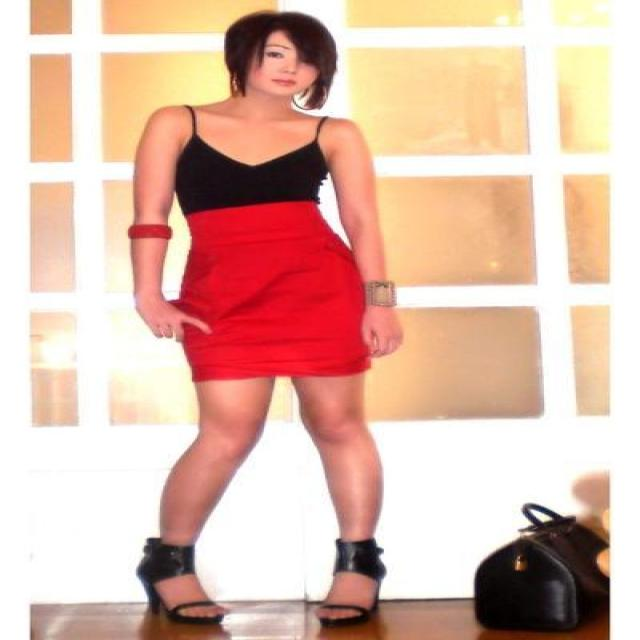dress: (173, 141, 395, 382)
shoe: (138, 539, 382, 639)
